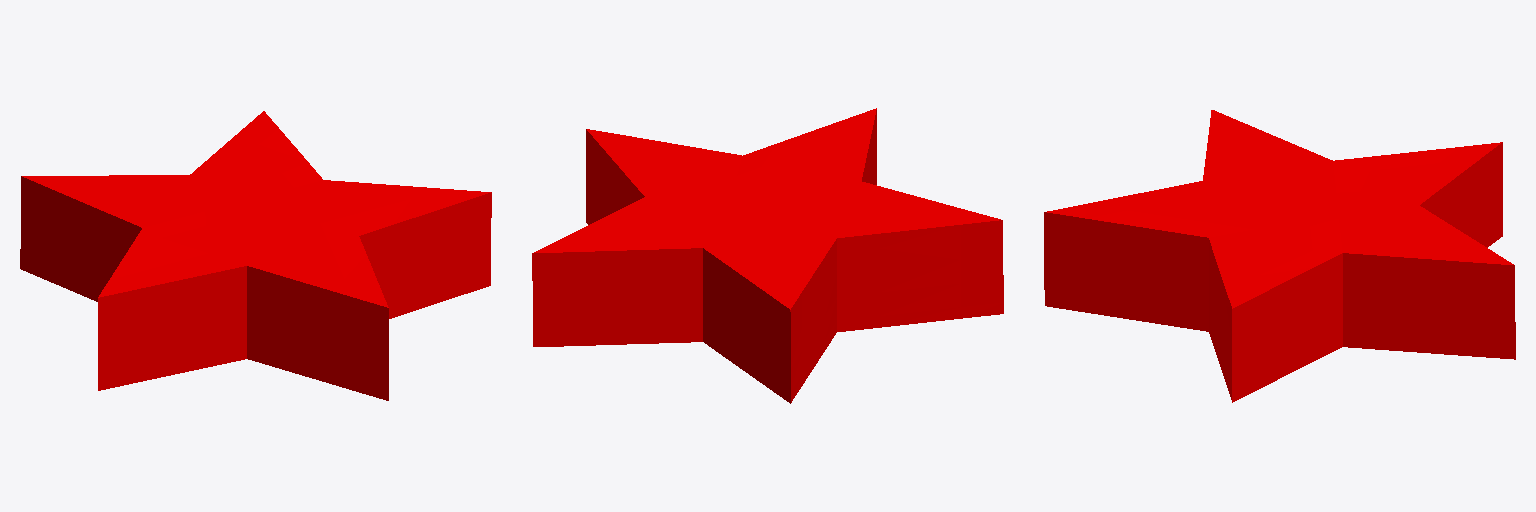
The robot description file, URDF, robot "star_block":
<?xml version="1.0"?>
<robot name="star_block">
  <link name="block">
    <visual>
      <geometry>
        <mesh filename="./config/assets/star.dae"/>
      </geometry>
    </visual>

    <collision>
      <geometry>
        <mesh filename="./config/assets/star.dae"/>
      </geometry>
    </collision>
  </link>

</robot>

--- What the picture shows (computed from the rendered views, not written in the file) ---
The picture shows the robot from 3 angles, left to right: view 1: azimuth 30°, elevation 25°; view 2: azimuth 150°, elevation 25°; view 3: azimuth 270°, elevation 25°; orthographic projection.
Robot: star_block — 1 links, 0 joints (none); root link block; default pose: all joints at 0.
Visible links, largest first — view 1: block; view 2: block; view 3: block.
Boxes of the visible links, bbox=[...] form: block: bbox=[20, 111, 491, 400]; block: bbox=[532, 108, 1003, 403]; block: bbox=[1044, 110, 1515, 402].
Bounding box of the posed robot: 0.09 × 0.09 × 0.02 m (x, y, z).
1 mesh visuals loaded from 1 distinct referenced files (1 Collada DAE).